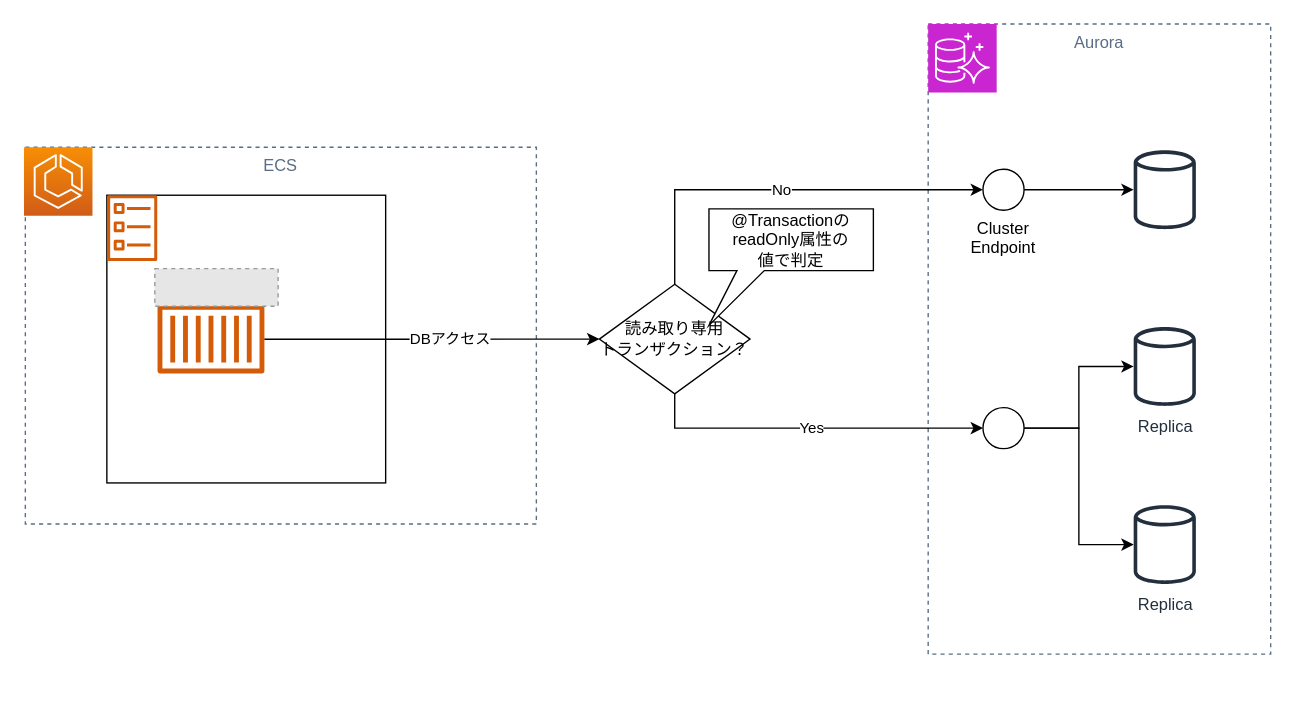
This 1295x719 diagram has some shape labels left out. Grey dashed boxes stand in for pictures. Here are the shapes that lost their labels. From the top down, the centre of each, then its label:
At pixel 1164 189: "Primary".
At pixel 210 338: "SpringBoot APコンテナ".
At pixel 1003 427: "Reader Endpoint".
